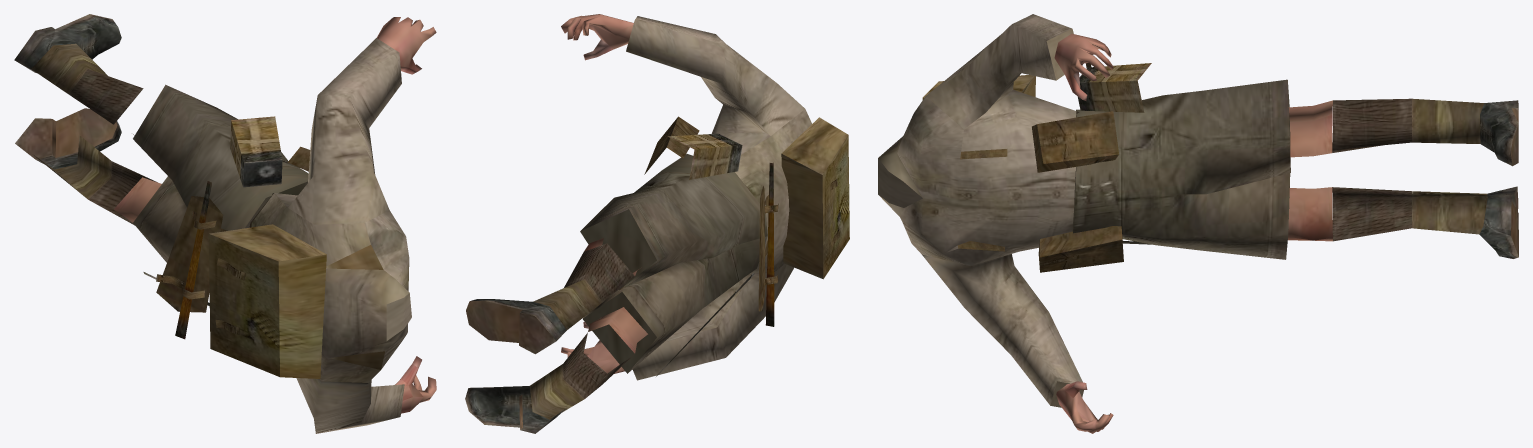
The model's file is character_british_afrca_body_low.glb.
The picture shows the model from 3 angles, left to right: view 1: azimuth 30°, elevation 25°; view 2: azimuth 150°, elevation 25°; view 3: azimuth 270°, elevation 25°; orthographic projection. The views are drawn at different scales.
Bounding box in the file's own units: 28.77 × 41.89 × 62.68.
Materials: 2 (2 with a texture image).
